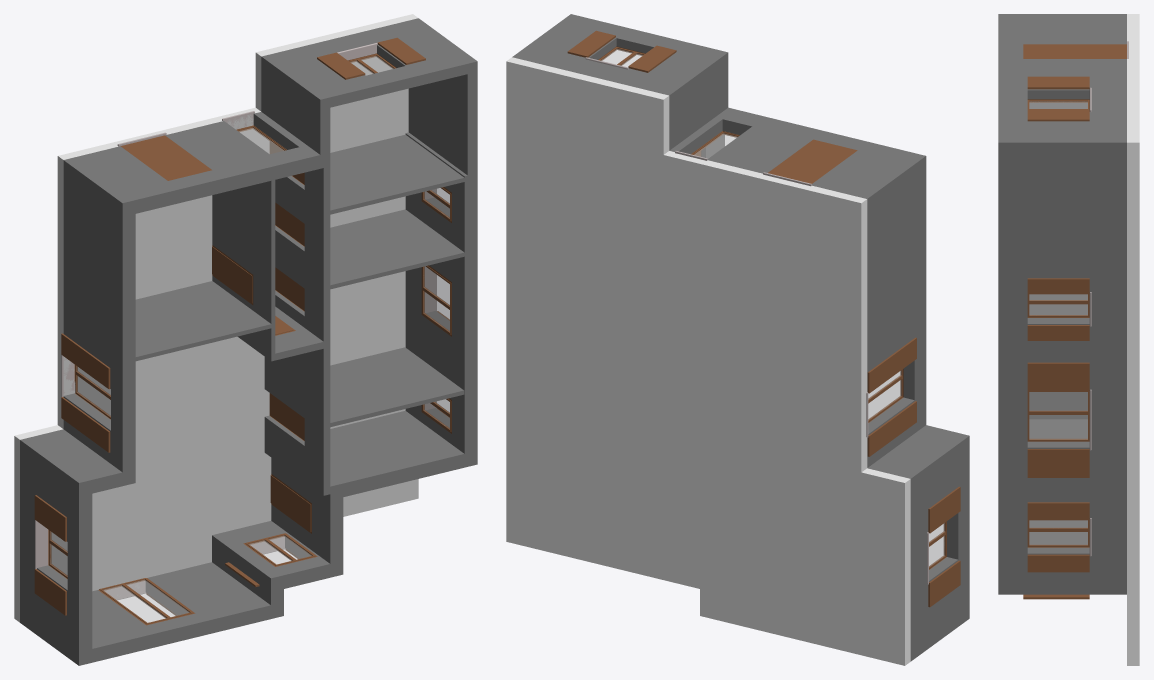
Rendered from Rilievo - Vista 3D.obj.
The picture shows the model from 3 angles, left to right: view 1: azimuth 30°, elevation 25°; view 2: azimuth 150°, elevation 25°; view 3: azimuth 270°, elevation 25°; orthographic projection. The views are drawn at different scales.
Visible parts, largest first — view 1: Latero Cementizio - 30 cm, Generico - 40 cm:8, Generico - 20 cm:1, Generico - 40 cm, Generico - 40 cm:9, Generico - 40 cm:5, Generico - 40 cm:6, Generico - 30 cm, Generico - 40 cm:1, Generico - 12 cm:1, Generico - 12 cm, Generico - 12 cm:3 (+23 smaller); view 2: Latero Cementizio - 30 cm, Generico - 40 cm:8, Generico - 40 cm:6, Generico - 40 cm:9, Generico - 30 cm, Generico - 30 cm:2, Generico - 40 cm:7, 120 x 250 cm:1, 120 x 250 cm:2, Pf 135 x 250:1, Pf 135 x 250:2, Generico - 40 cm:5 (+2 smaller); view 3: Generico - 40 cm, Generico - 30 cm:1, Generico - 30 cm, Latero Cementizio - 30 cm, Generico - 40 cm:9, 150 x 150 cm:2, 150 x 150 cm:1, Generico - 40 cm:2, 150 x 150 cm:3, Generico - 20 cm:1, Pf 135 x 250:2, Generico - 40 cm:1 (+23 smaller).
Part boxes in pixels (left/top/right/bottom): Latero Cementizio - 30 cm: left=14, top=14, right=418, bottom=622; Generico - 40 cm:8: left=63, top=157, right=135, bottom=472; Generico - 20 cm:1: left=264, top=166, right=330, bottom=495; Generico - 40 cm: left=405, top=132, right=477, bottom=467; Generico - 40 cm:9: left=77, top=112, right=330, bottom=213; Generico - 40 cm:5: left=20, top=562, right=270, bottom=665; Generico - 40 cm:6: left=20, top=437, right=92, bottom=651; Generico - 30 cm: left=261, top=18, right=477, bottom=109; Generico - 40 cm:1: left=324, top=410, right=464, bottom=500; Generico - 12 cm:1: left=212, top=180, right=275, bottom=361; Generico - 12 cm: left=135, top=281, right=271, bottom=361; Generico - 12 cm:3: left=330, top=134, right=464, bottom=214; Latero Cementizio - 30 cm: left=506, top=57, right=910, bottom=665; Generico - 40 cm:8: left=854, top=152, right=926, bottom=467; Generico - 40 cm:6: left=898, top=432, right=969, bottom=647; Generico - 40 cm:9: left=669, top=107, right=912, bottom=195; Generico - 30 cm: left=512, top=14, right=728, bottom=105; Generico - 30 cm:2: left=669, top=63, right=728, bottom=150; Generico - 40 cm:7: left=867, top=425, right=956, bottom=475; 120 x 250 cm:1: left=867, top=337, right=916, bottom=393; 120 x 250 cm:2: left=867, top=401, right=916, bottom=456; Pf 135 x 250:1: left=768, top=139, right=834, bottom=178; Pf 135 x 250:2: left=790, top=145, right=857, bottom=183; Generico - 40 cm:5: left=910, top=605, right=969, bottom=661; Generico - 40 cm: left=998, top=264, right=1126, bottom=581; Generico - 30 cm:1: left=998, top=154, right=1126, bottom=264; Generico - 30 cm: left=998, top=59, right=1126, bottom=153; Latero Cementizio - 30 cm: left=1127, top=14, right=1139, bottom=665; Generico - 40 cm:9: left=998, top=21, right=1126, bottom=58; 150 x 150 cm:2: left=1027, top=362, right=1089, bottom=391; 150 x 150 cm:1: left=1027, top=449, right=1089, bottom=477; Generico - 40 cm:2: left=998, top=581, right=1126, bottom=594; 150 x 150 cm:3: left=1029, top=415, right=1087, bottom=439; Generico - 20 cm:1: left=1029, top=392, right=1087, bottom=419; Pf 135 x 250:2: left=1023, top=44, right=1126, bottom=55; Generico - 40 cm:1: left=1029, top=520, right=1087, bottom=544.
Size of the model in its own units: 12.23 by 14.84 by 3.4.
